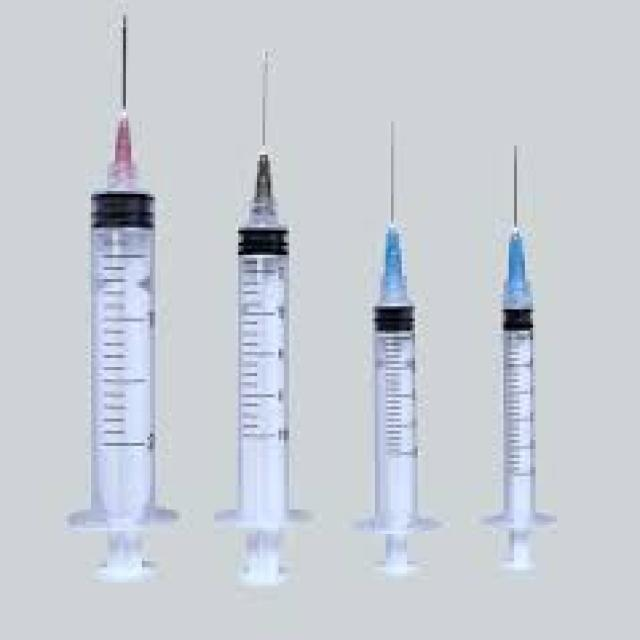syringe: (37, 8, 192, 594), (212, 42, 310, 528), (351, 115, 444, 570), (479, 140, 557, 567)
